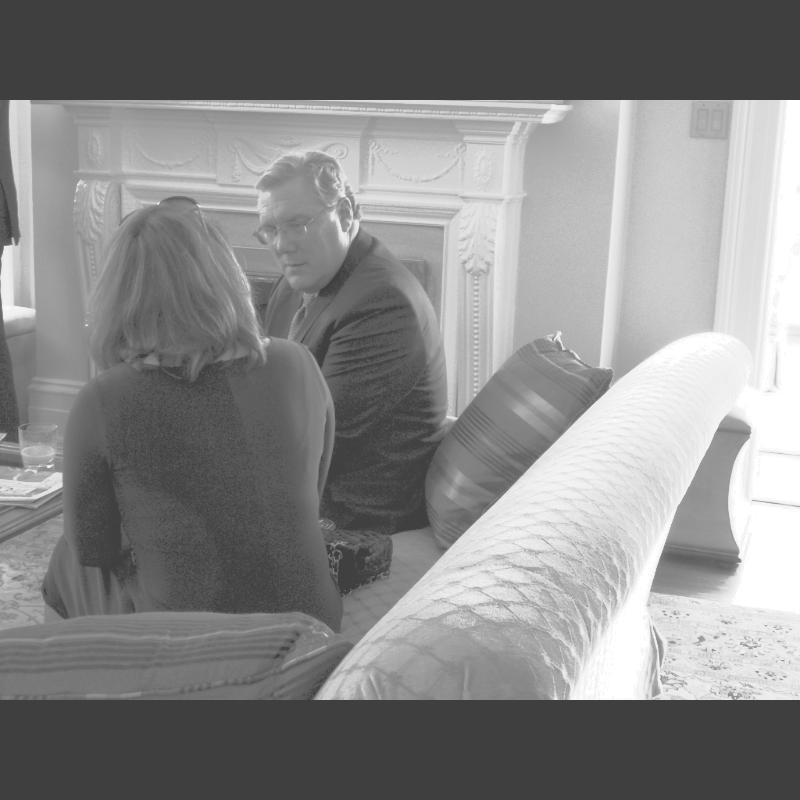pillow: (427, 324, 623, 552), (1, 607, 372, 699)
